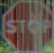Stop: (1, 3, 53, 47)
